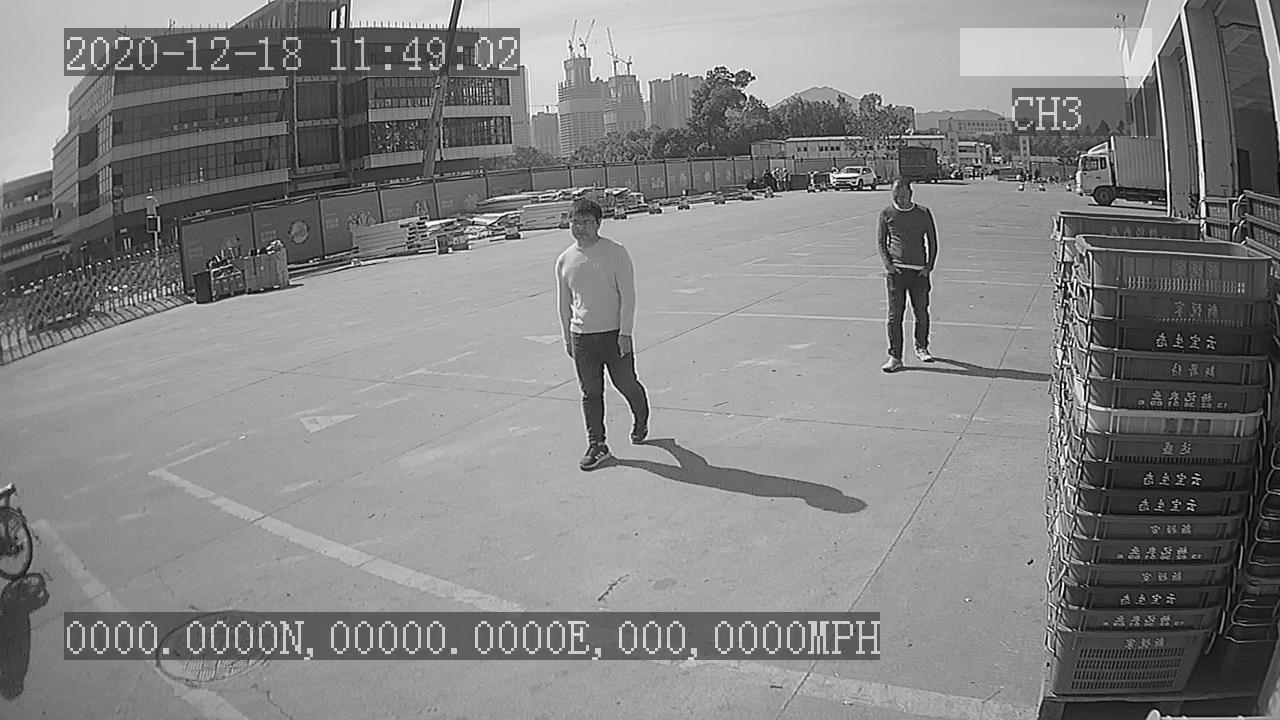person: (551, 194, 652, 476), (874, 172, 942, 378)
